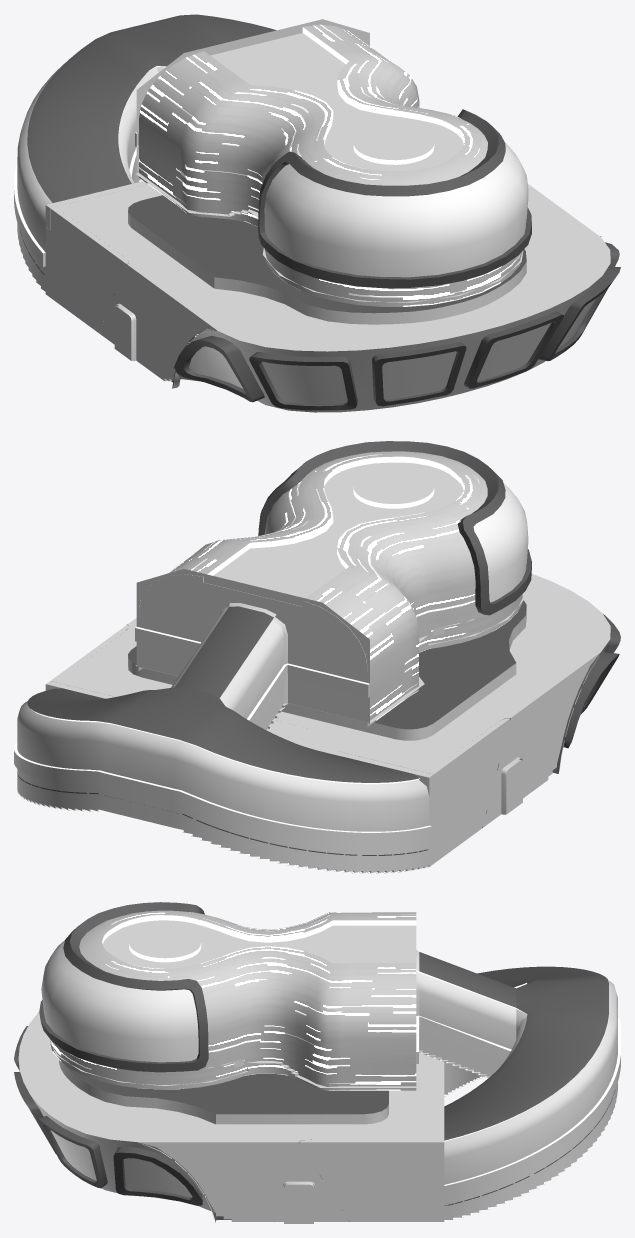
3 renders of one model, top to bottom at view 1: azimuth 30°, elevation 25°; view 2: azimuth 150°, elevation 25°; view 3: azimuth 270°, elevation 25°, orthographic. The views are drawn at different scales.
Parts seen in each view (by area): view 1: Room_01, Room_02, Stairs, Glass_window_02, Glass_window_01; view 2: Stairs, Room_02, Room_01, Glass_window_02; view 3: Room_01, Room_02, Stairs, Glass_window_02, Glass_window_01.
Boxes of the visible parts, x1,y1,x2,y2 form: Room_01: (45, 181, 620, 412); Room_02: (136, 24, 531, 306); Stairs: (14, 14, 369, 293); Glass_window_02: (264, 143, 528, 277); Glass_window_01: (189, 298, 596, 404); Stairs: (14, 569, 431, 873); Room_02: (135, 441, 531, 726); Room_01: (46, 574, 620, 866); Glass_window_02: (295, 481, 528, 602); Room_01: (14, 1012, 444, 1223); Room_02: (39, 902, 416, 1090); Stairs: (416, 950, 620, 1221); Glass_window_02: (41, 940, 198, 1062); Glass_window_01: (51, 1130, 192, 1197).
Size of what is drawn, in the model's own units: 26.42 by 14.03 by 38.68.
4 materials, 3 textured.
